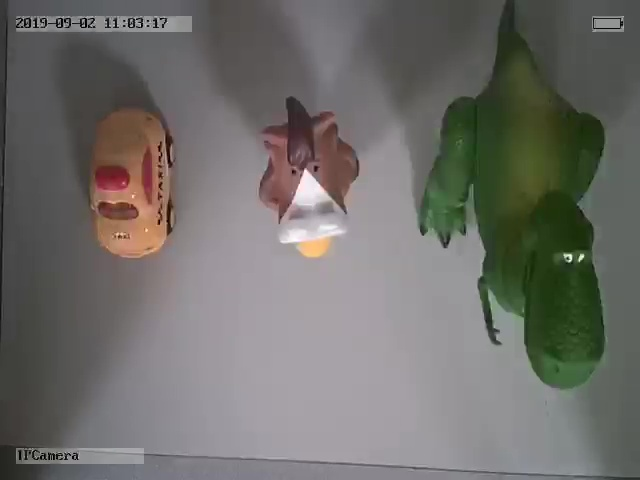car: (87, 105, 176, 258)
horse: (259, 95, 361, 258)
rex: (419, 6, 606, 391)
